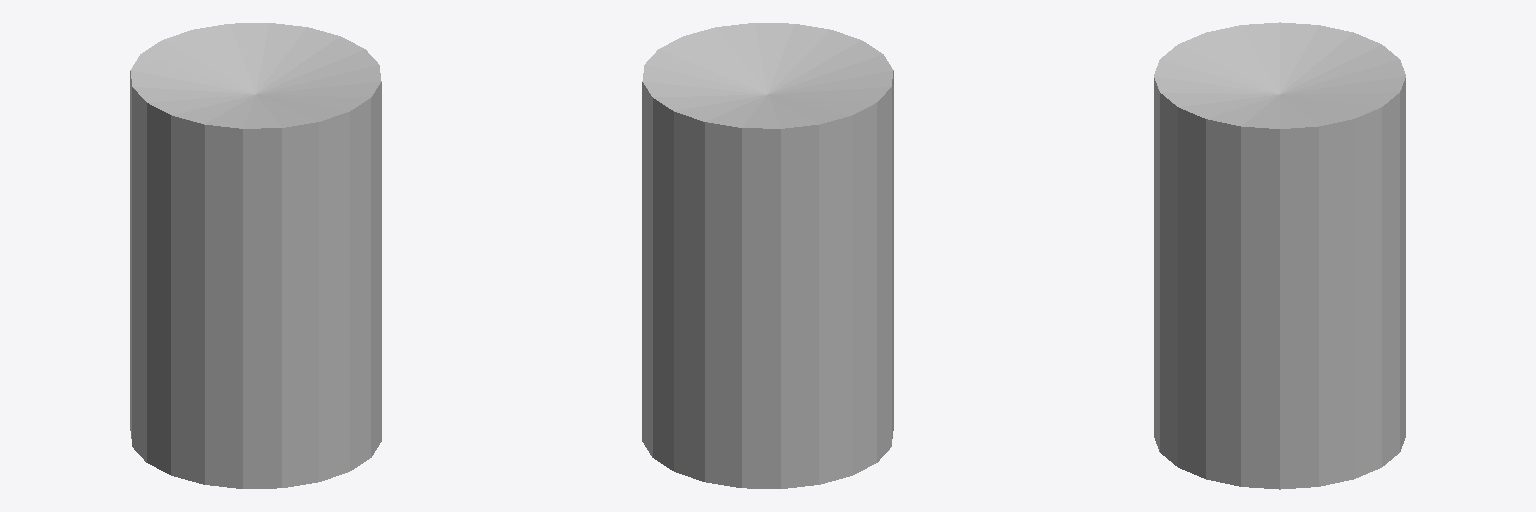
Rendered from canned_food_11.obj.
3 renders of one model, left to right at view 1: azimuth 30°, elevation 25°; view 2: azimuth 150°, elevation 25°; view 3: azimuth 270°, elevation 25°, orthographic.
Visible parts, largest first — view 1: canned_food_11:pCylinder1; view 2: canned_food_11:pCylinder1; view 3: canned_food_11:pCylinder1.
Part boxes in pixels (x1,y1,x2,y2): canned_food_11:pCylinder1: (130, 23, 381, 488); canned_food_11:pCylinder1: (642, 23, 893, 488); canned_food_11:pCylinder1: (1154, 22, 1405, 489).
Size of the model in its own units: 0.3508 by 0.5522 by 0.3508.